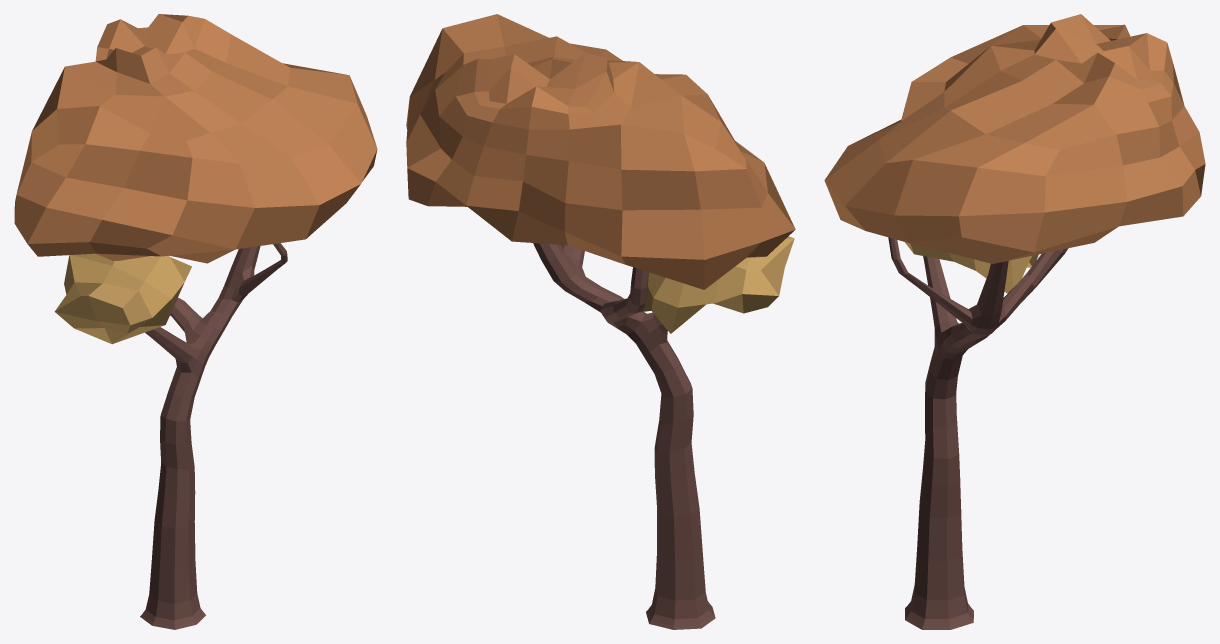
The model's file is CommonTree_Autumn_4.glb.
3 renders of one model, left to right at view 1: azimuth 30°, elevation 25°; view 2: azimuth 150°, elevation 25°; view 3: azimuth 270°, elevation 25°, orthographic. The views are drawn at different scales.
Parts seen in each view (by area): view 1: CommonTree_Autumn_4; view 2: CommonTree_Autumn_4; view 3: CommonTree_Autumn_4.
Part boxes in pixels (box(x1,y1,x2,y2)): CommonTree_Autumn_4: box(14, 14, 377, 629); CommonTree_Autumn_4: box(406, 14, 795, 629); CommonTree_Autumn_4: box(824, 14, 1205, 629).
Size of the model in its own units: 1.8 by 2.78 by 1.58.
